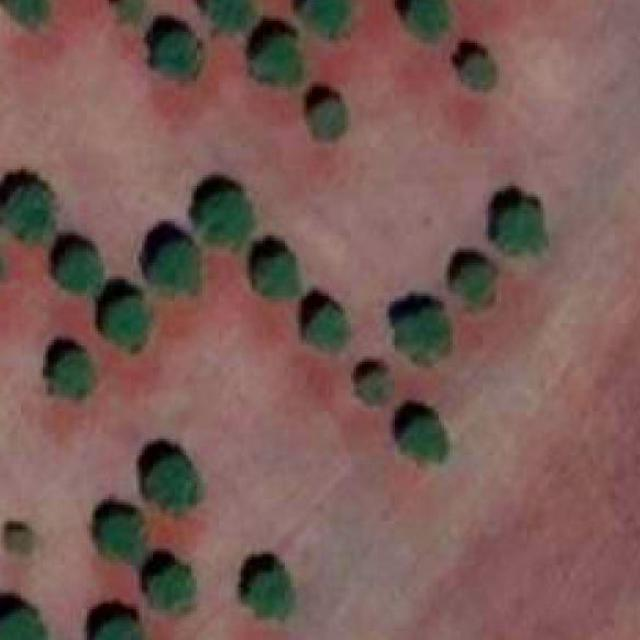Tree: (145, 458, 200, 517), (2, 184, 57, 242), (397, 307, 450, 365), (202, 192, 258, 246), (101, 508, 151, 566), (45, 351, 98, 400), (54, 246, 101, 299), (502, 202, 546, 258), (106, 298, 150, 351), (153, 568, 197, 620), (151, 244, 198, 292), (156, 32, 200, 81), (246, 574, 294, 618), (255, 252, 299, 299), (455, 261, 497, 308), (402, 420, 444, 467), (301, 0, 354, 37), (304, 304, 348, 348), (255, 41, 303, 79), (208, 0, 252, 38), (0, 609, 49, 640), (411, 0, 448, 41), (312, 101, 349, 140), (354, 371, 393, 404), (459, 54, 497, 87), (4, 526, 41, 558), (12, 0, 54, 27), (98, 620, 147, 640), (120, 0, 147, 21)
